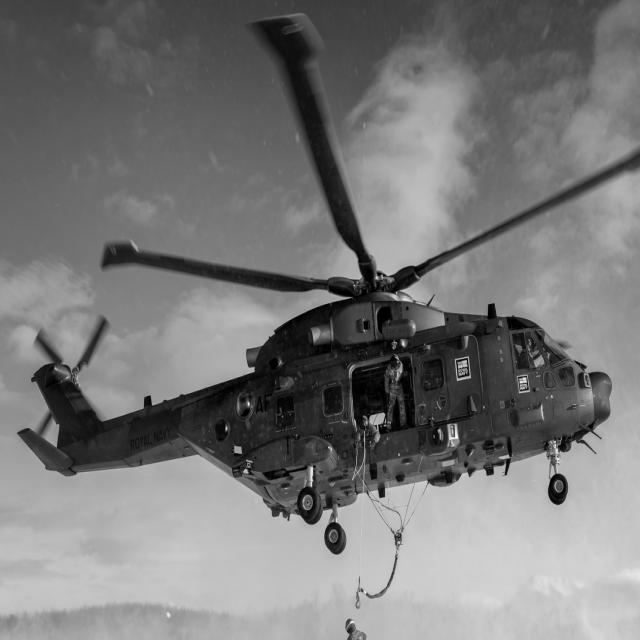helicopter: (3, 35, 640, 609)
